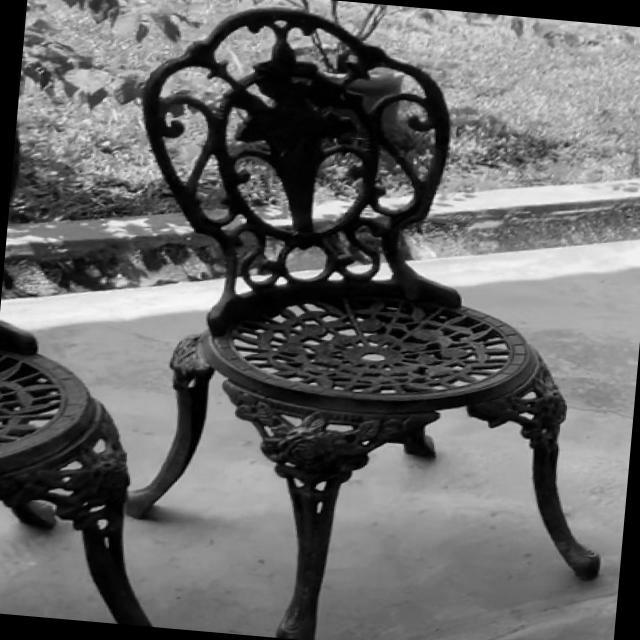chair: (91, 0, 640, 640), (0, 67, 241, 630)
